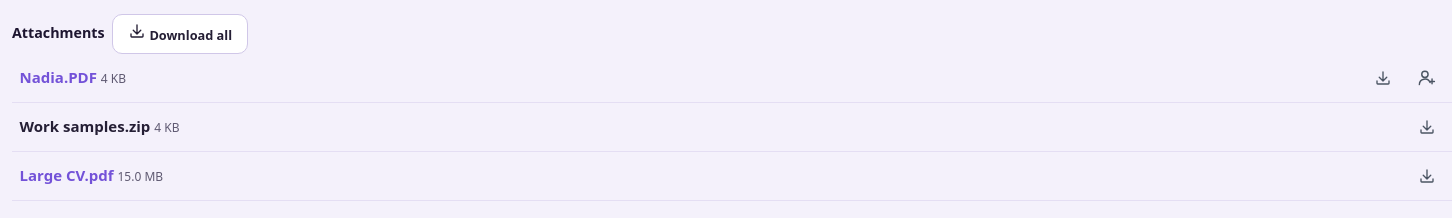
imports a CV in place: importing, then Uploaded, with the candidate to open
The width and height of the screenshot is (1452, 218).
Later steps or results of the test are not shown.
Click the button named "Import Nadia.PDF as a candidate": {"x": 1426, "y": 78} [1408, 60, 1444, 96]
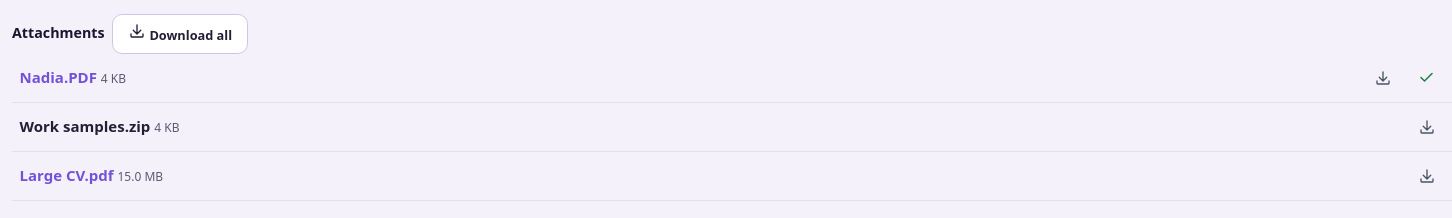
Click the heading named "Uploaded: Nadia.PDF": {"x": 1426, "y": 78} [1408, 60, 1444, 96]
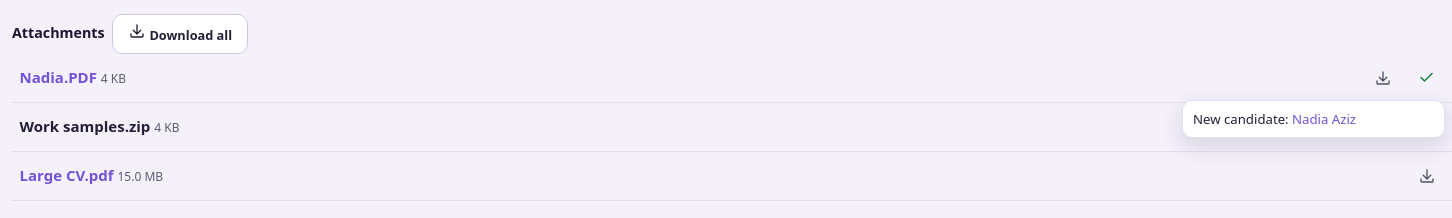
Expected: the message reads "New candidate: Nadia Aziz", [1182, 100, 1444, 138]
